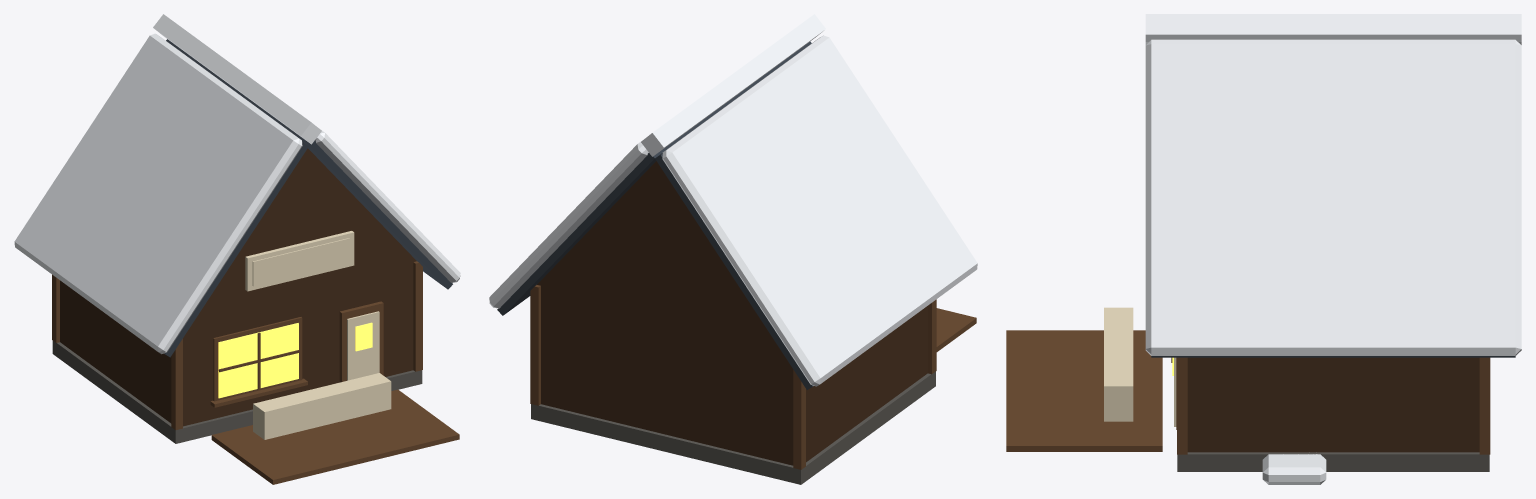
The model's file is waffle-haus-adirondack.glb.
The picture shows the model from 3 angles, left to right: view 1: azimuth 30°, elevation 25°; view 2: azimuth 150°, elevation 25°; view 3: azimuth 270°, elevation 25°; orthographic projection. The views are drawn at different scales.
Visible parts, largest first — view 1: waffle-haus-adirondack; view 2: waffle-haus-adirondack; view 3: waffle-haus-adirondack.
Part boxes in pixels (x1,y1,x2,y2): waffle-haus-adirondack: [14, 14, 460, 484]; waffle-haus-adirondack: [489, 14, 977, 484]; waffle-haus-adirondack: [1006, 14, 1521, 484].
Bounding box in the file's own units: 9.08 × 8.62 × 10.55.
